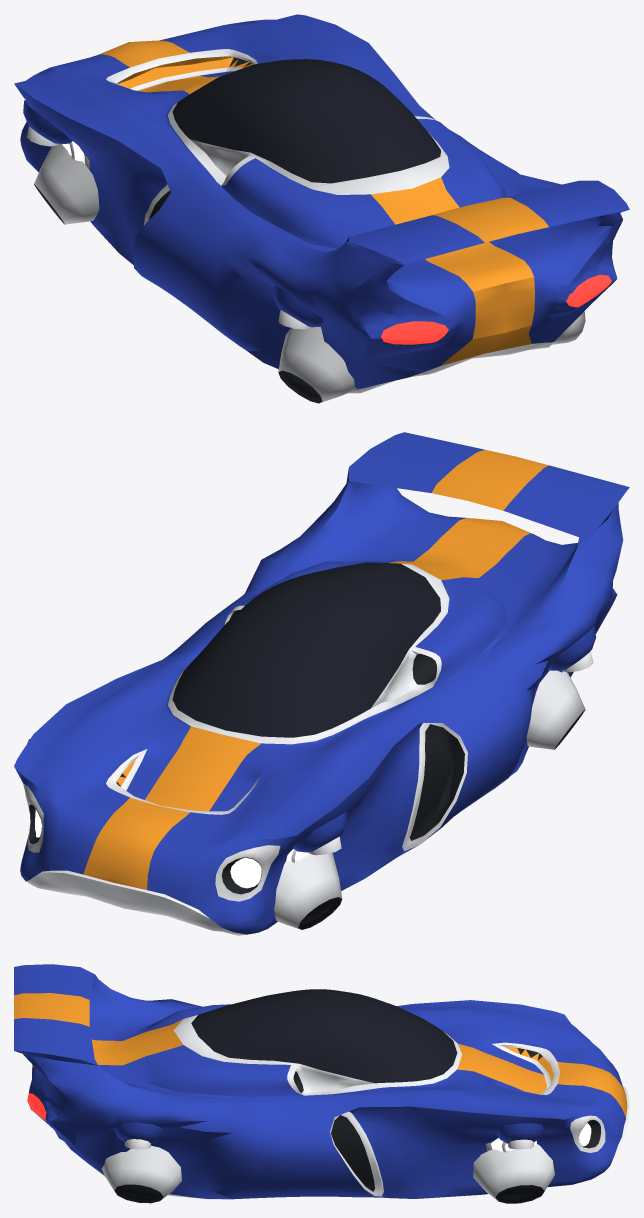
The model's file is c4-fork.glb.
3 renders of one model, top to bottom at view 1: azimuth 30°, elevation 25°; view 2: azimuth 150°, elevation 25°; view 3: azimuth 270°, elevation 25°, orthographic. The views are drawn at different scales.
Parts seen in each view (by area): view 1: Body.001, Canopy, Sockets; view 2: Body.001, Canopy, Sockets; view 3: Body.001, Canopy, Sockets.
Boxes of the visible parts, left/top/right/bottom form: Body.001: left=14, top=14, right=629, bottom=393; Canopy: left=172, top=59, right=440, bottom=183; Sockets: left=23, top=100, right=585, bottom=403; Body.001: left=14, top=432, right=629, bottom=935; Canopy: left=172, top=562, right=440, bottom=737; Sockets: left=27, top=625, right=595, bottom=929; Body.001: left=14, top=964, right=629, bottom=1199; Canopy: left=191, top=989, right=457, bottom=1083; Sockets: left=101, top=1122, right=554, bottom=1203.
Bounding box in the file's own units: 1.89 × 1.13 × 4.01.
